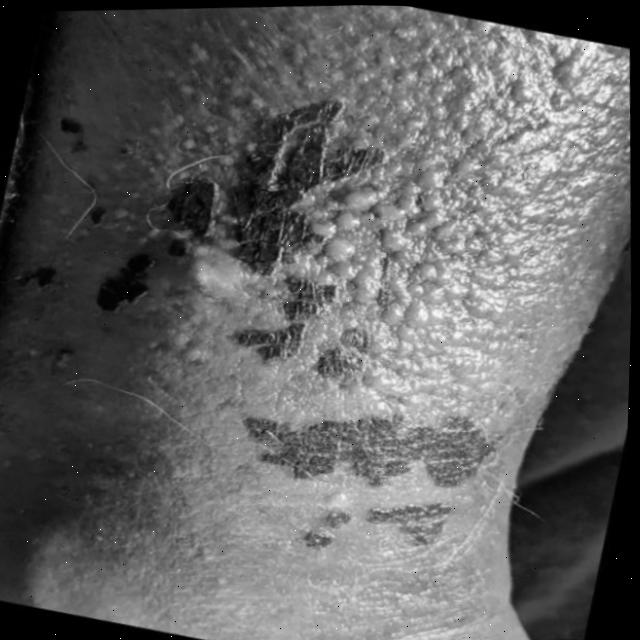Eczema: (119, 88, 513, 519)
